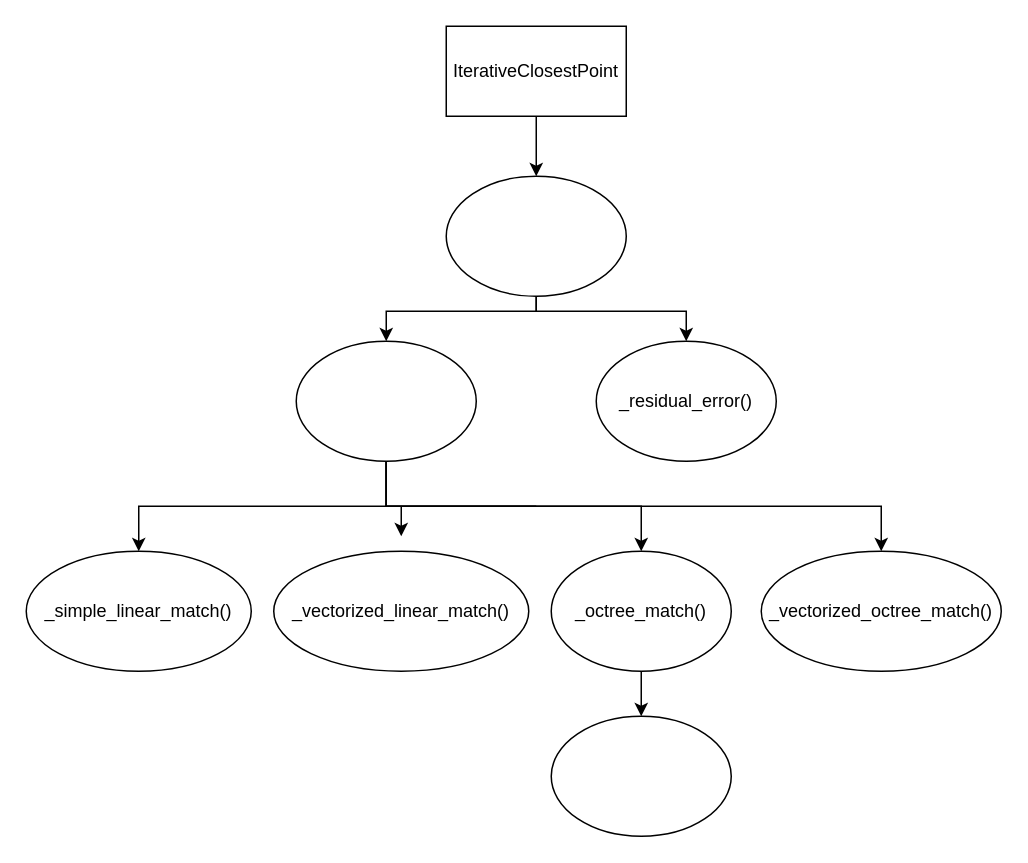
The diagram is 1028 pixels wide and 863 high, and some of its shapes have lost their labels. The box of each missing label's shape, as (x1, y1, x2, y2) in pixels:
__call__(): (445, 175, 626, 296)
_search_octree(): (550, 715, 731, 836)
match(): (295, 340, 476, 461)
